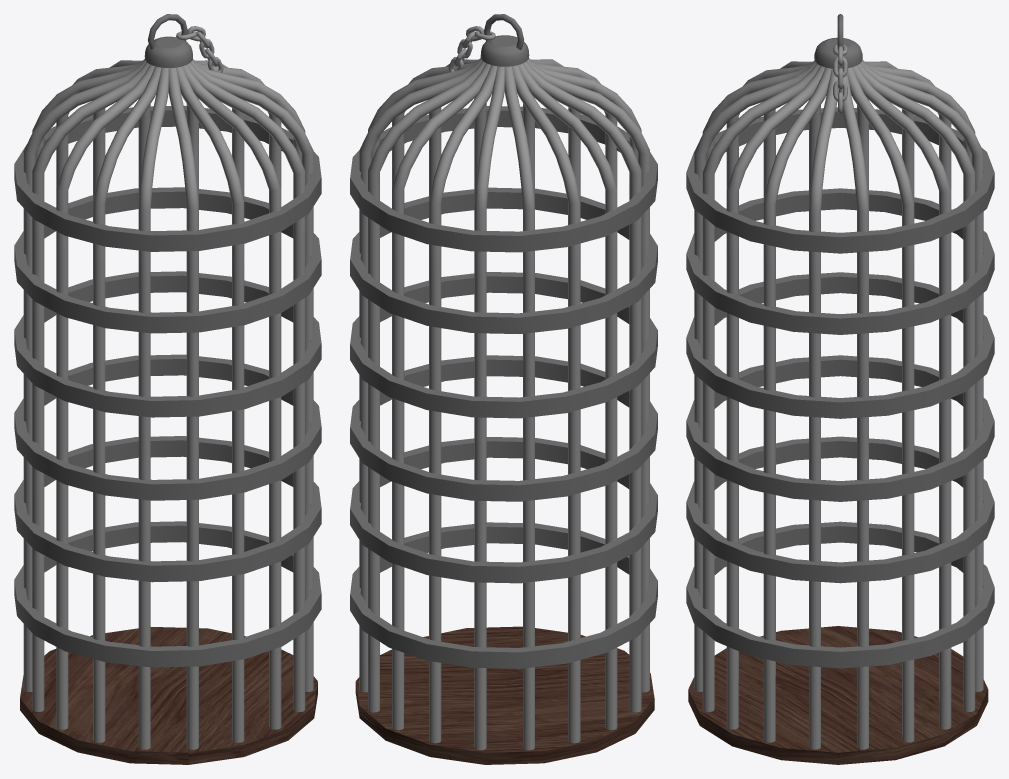
File: cage.fbx
The picture shows the model from 3 angles, left to right: view 1: azimuth 30°, elevation 25°; view 2: azimuth 150°, elevation 25°; view 3: azimuth 270°, elevation 25°; orthographic projection.
Parts seen in each view (by area): view 1: pasted__pasted__pTorus14; view 2: pasted__pasted__pTorus14; view 3: pasted__pasted__pTorus14.
Boxes of the visible parts, <box> form: pasted__pasted__pTorus14: <box>14,14,321,764</box>; pasted__pasted__pTorus14: <box>350,14,657,764</box>; pasted__pasted__pTorus14: <box>686,14,994,764</box>.
Size of the model in its own units: 0.8147 by 2 by 0.8147.
